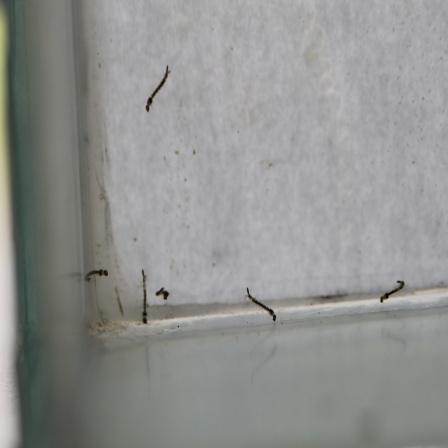Jentik-Nyamuk: (139, 61, 172, 116), (245, 285, 279, 325), (137, 266, 152, 327), (376, 277, 407, 304), (82, 263, 113, 287), (153, 282, 172, 302)
